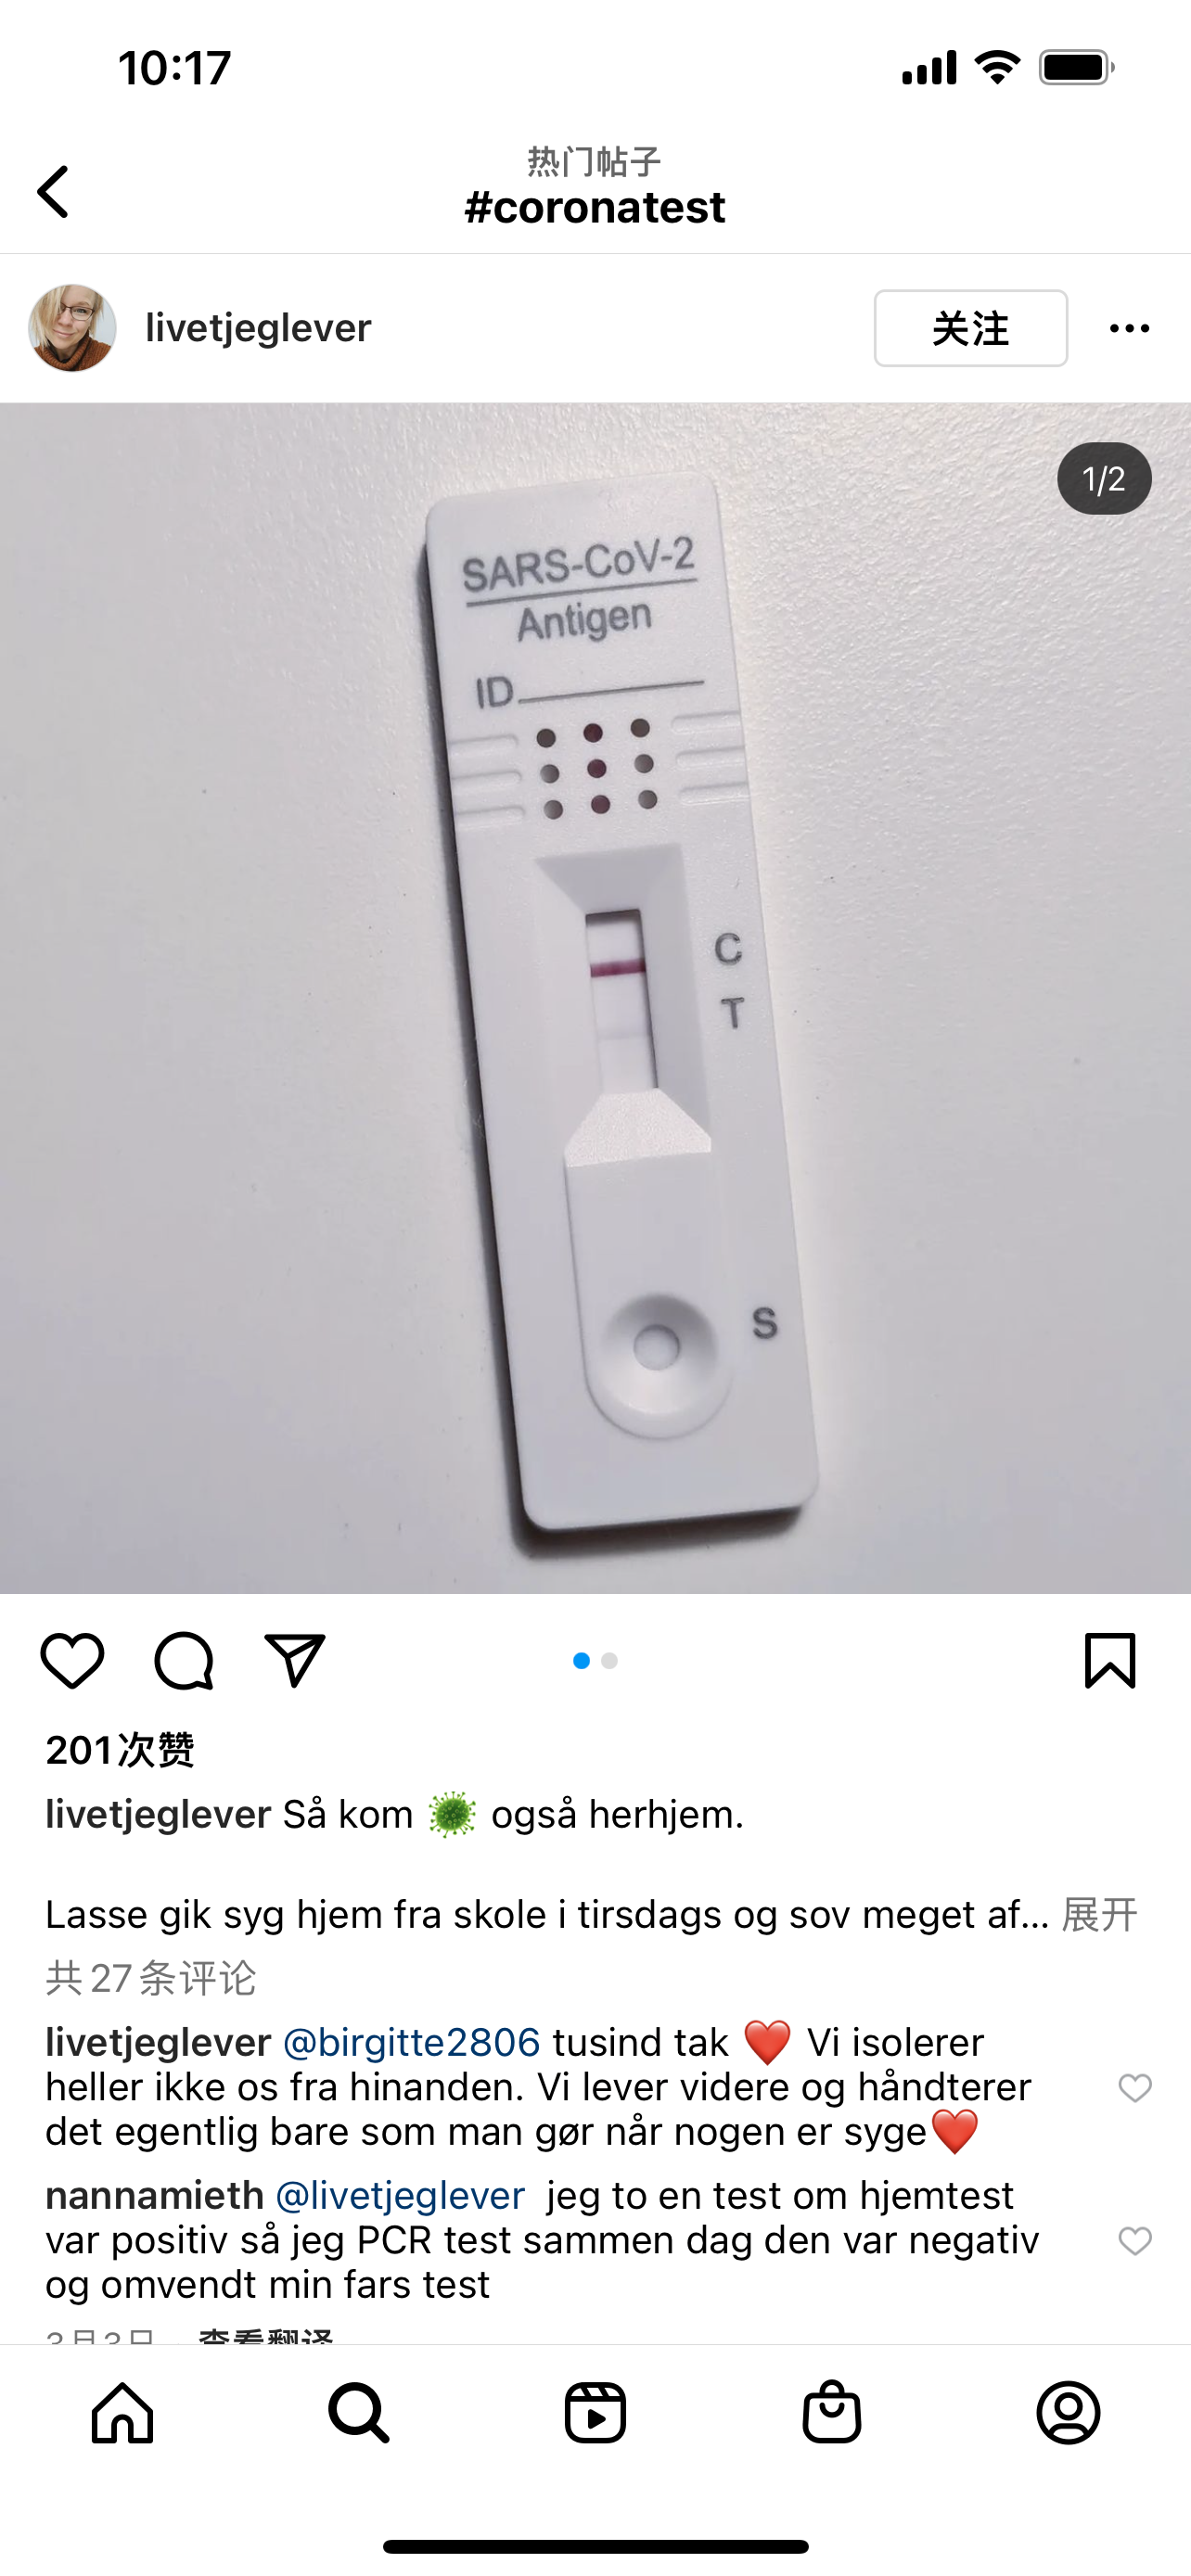positive: (562, 882, 674, 1129)
